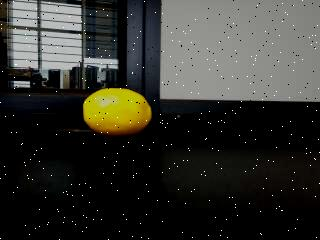Lemon: (83, 88, 154, 136)
